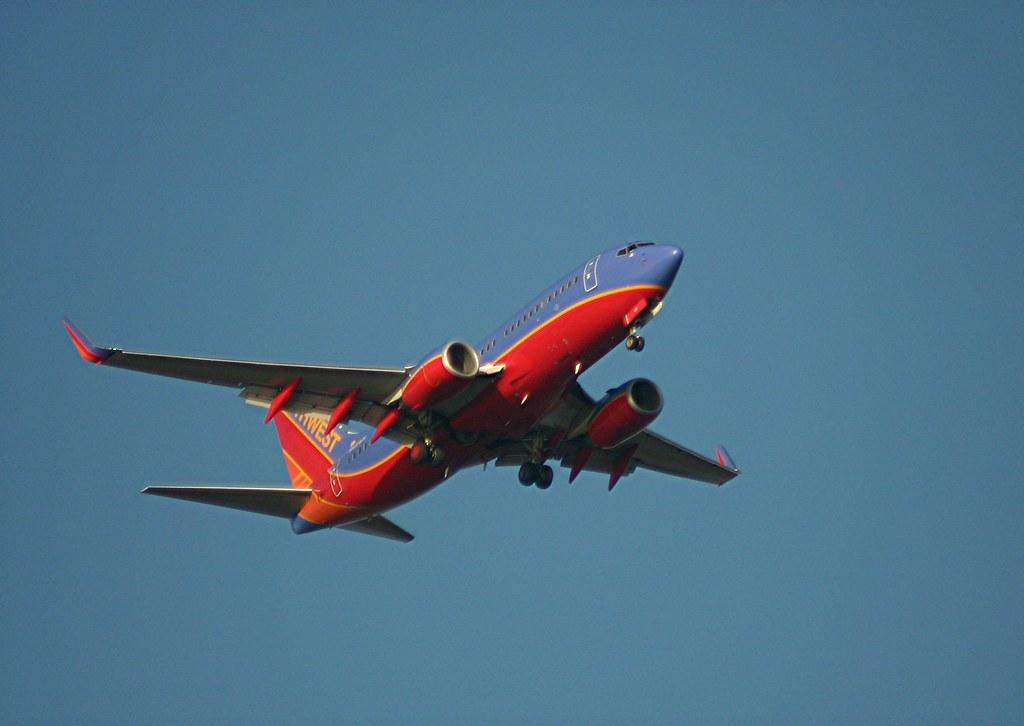plane: (61, 239, 742, 544)
